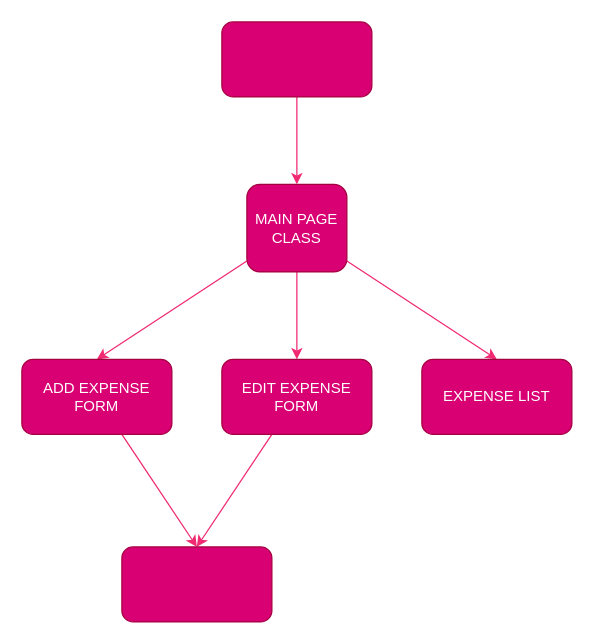
The diagram is 594 pixels wide and 644 high, and some of its shapes have lost their labels. Each missing label, with the centre of its shape:
"APP" belongs at (x=296, y=59).
"REUSABLE FORM" belongs at (x=196, y=584).
